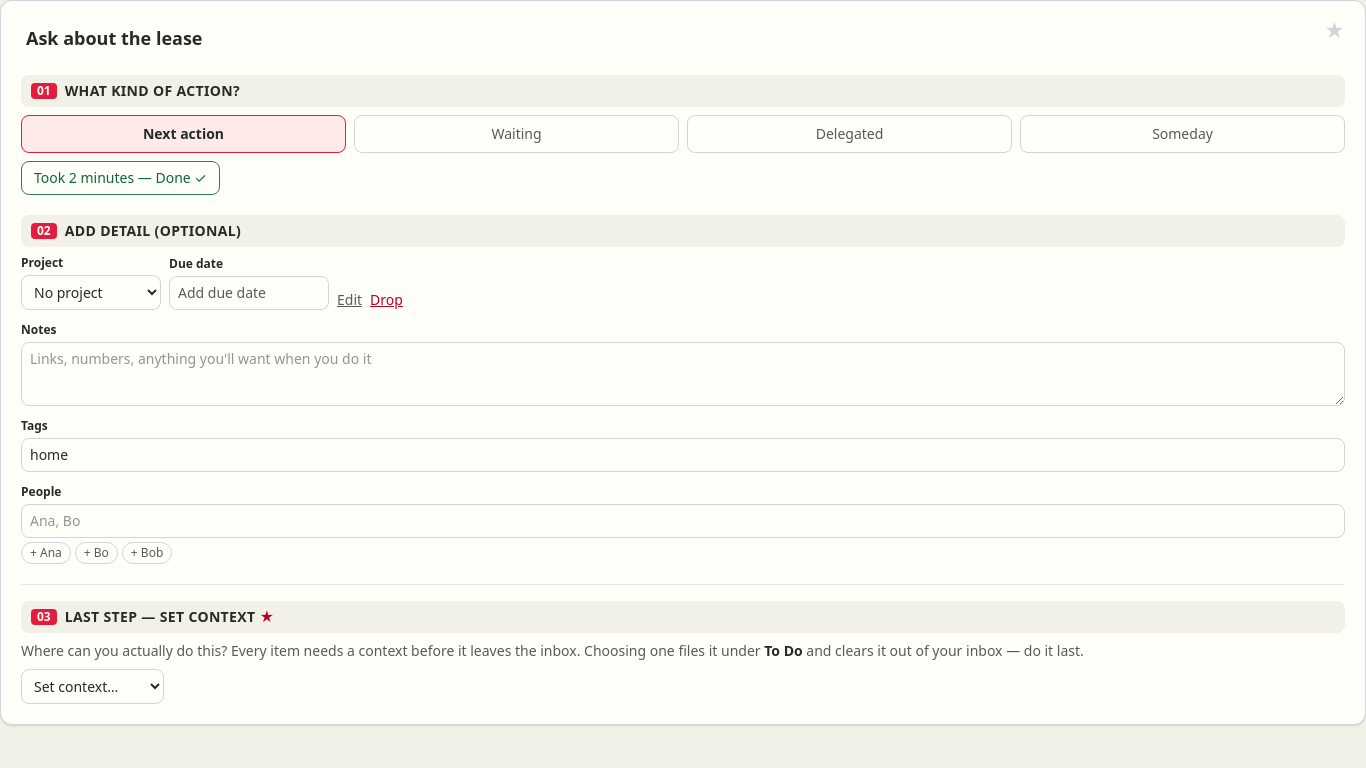
Test: the people field on the triage card › says so when the write is refused
Click the button "+ Bo".
click(96, 553)  # box [75,542,118,564]
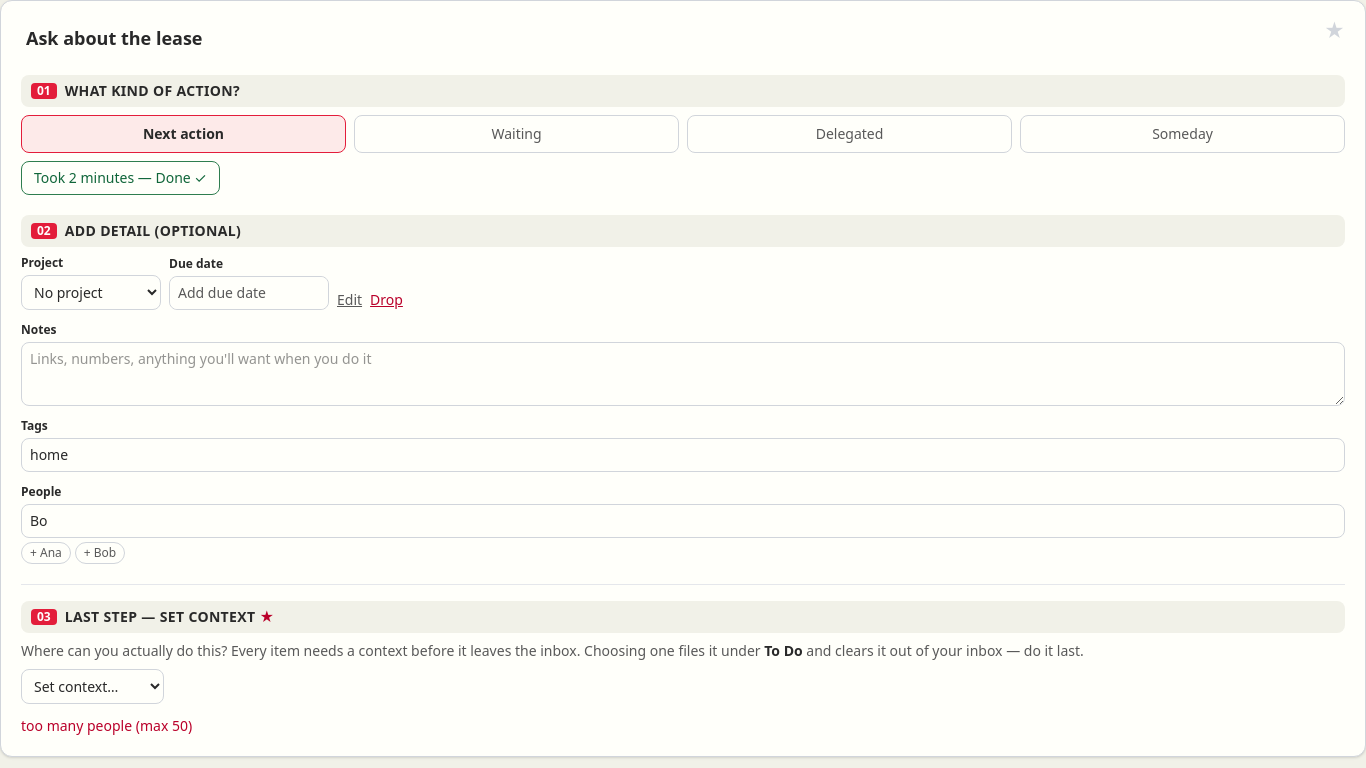
expect the text "too many people (max 50)" is shown: met, box [21,716,192,735]
